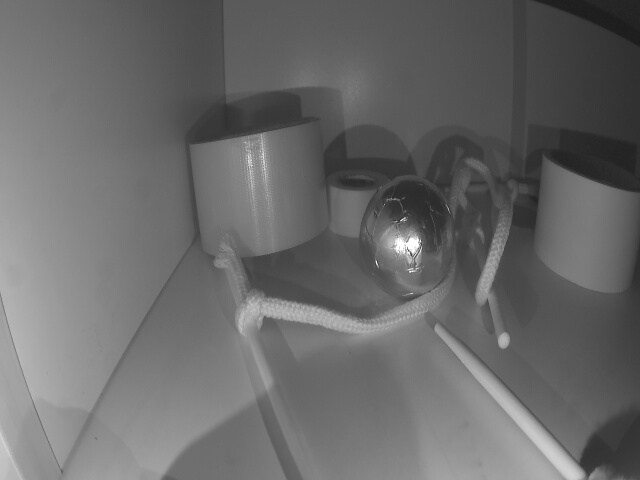Live: (358, 173, 455, 304)
